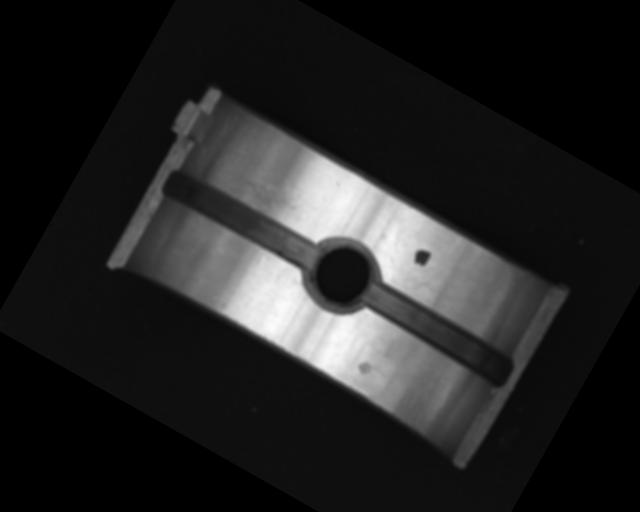blot: (410, 245, 432, 270)
bruise: (355, 358, 375, 378)
gap: (157, 162, 324, 277), (358, 277, 518, 388)
hole: (296, 229, 390, 322)
nick: (237, 255, 274, 308)
scratch: (220, 153, 306, 225)
